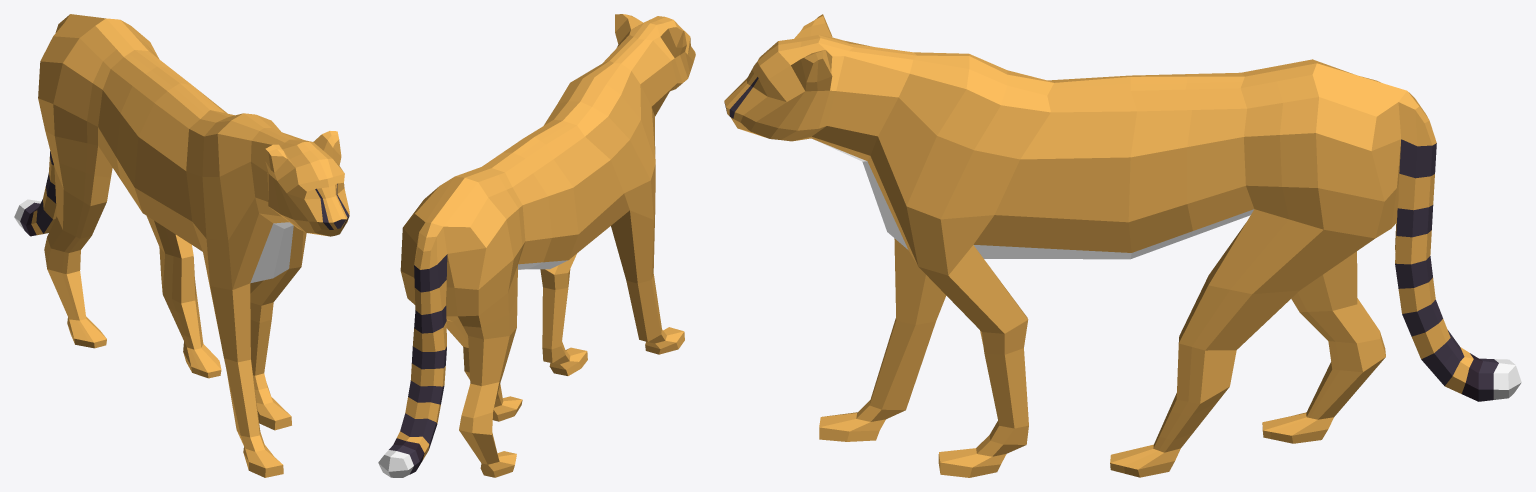
Rendered from Gepard2.fbx.
3 views of the same model, side by side, from view 1: azimuth 30°, elevation 25°; view 2: azimuth 150°, elevation 25°; view 3: azimuth 270°, elevation 25° (orthographic). The views are drawn at different scales.
Parts seen in each view (by area): view 1: Gepard.003; view 2: Gepard.003; view 3: Gepard.003.
Boxes of the visible parts, <box> form: Gepard.003: <box>14,14,349,477</box>; Gepard.003: <box>378,14,695,477</box>; Gepard.003: <box>724,14,1521,477</box>.
Bounding box in the file's own units: 0.4293 × 1.3 × 2.24.
